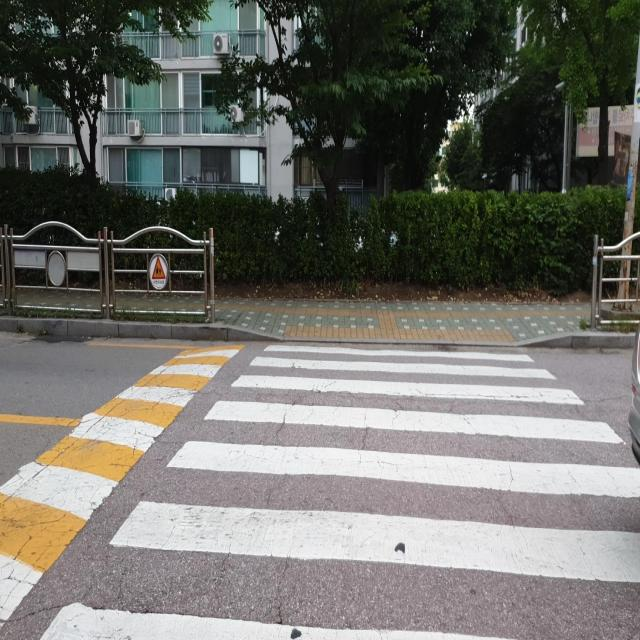횡단보도: (40, 343, 640, 640)
